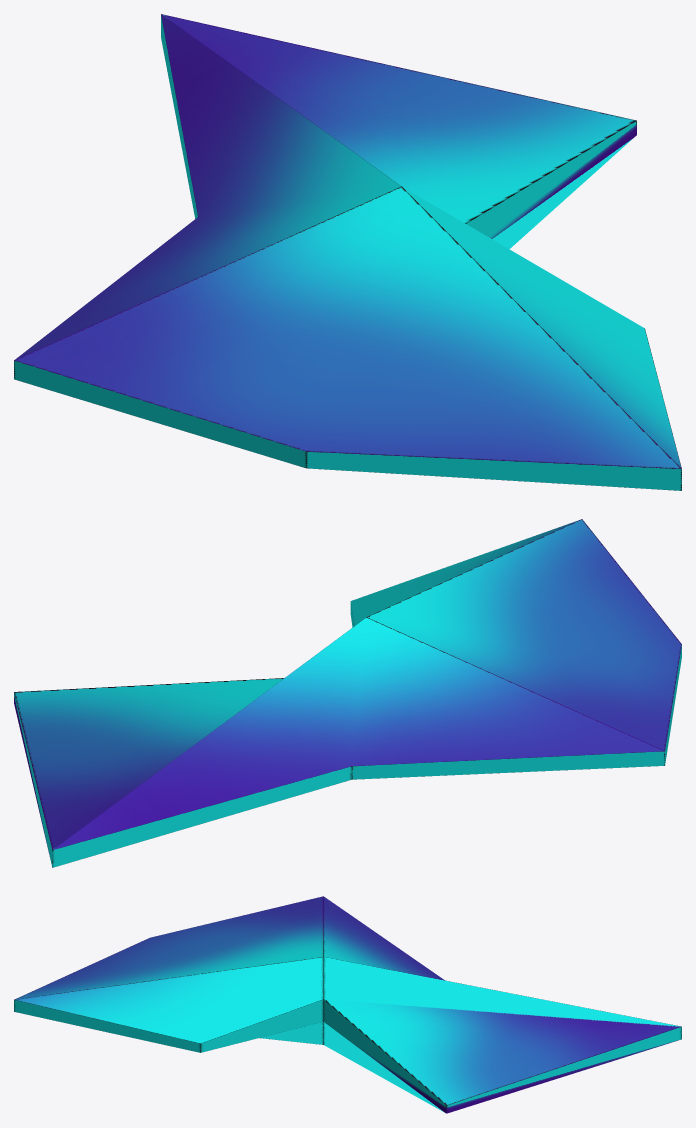
Rendered from bume.obj.
3 views of the same model, one above another, from view 1: azimuth 30°, elevation 25°; view 2: azimuth 150°, elevation 25°; view 3: azimuth 270°, elevation 25° (orthographic). The views are drawn at different scales.
Parts seen in each view (by area): view 1: Cube; view 2: Cube; view 3: Cube.
Boxes of the visible parts, x1,y1,x2,y2 form: Cube: [14, 14, 681, 490]; Cube: [14, 519, 681, 867]; Cube: [14, 896, 681, 1113].
Bounding box in the file's own units: 3.81 × 0.7902 × 5.43.
Materials: 1 (1 with a texture image).
